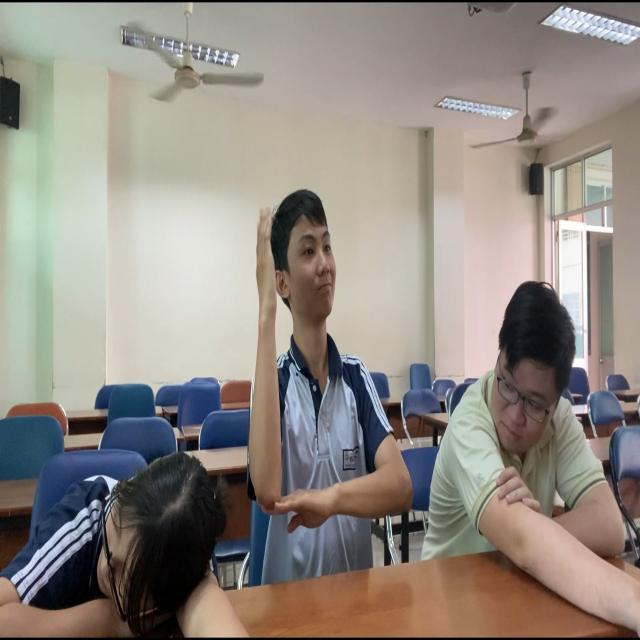raise_hand: (246, 191, 420, 584)
sleep: (1, 456, 250, 640)
